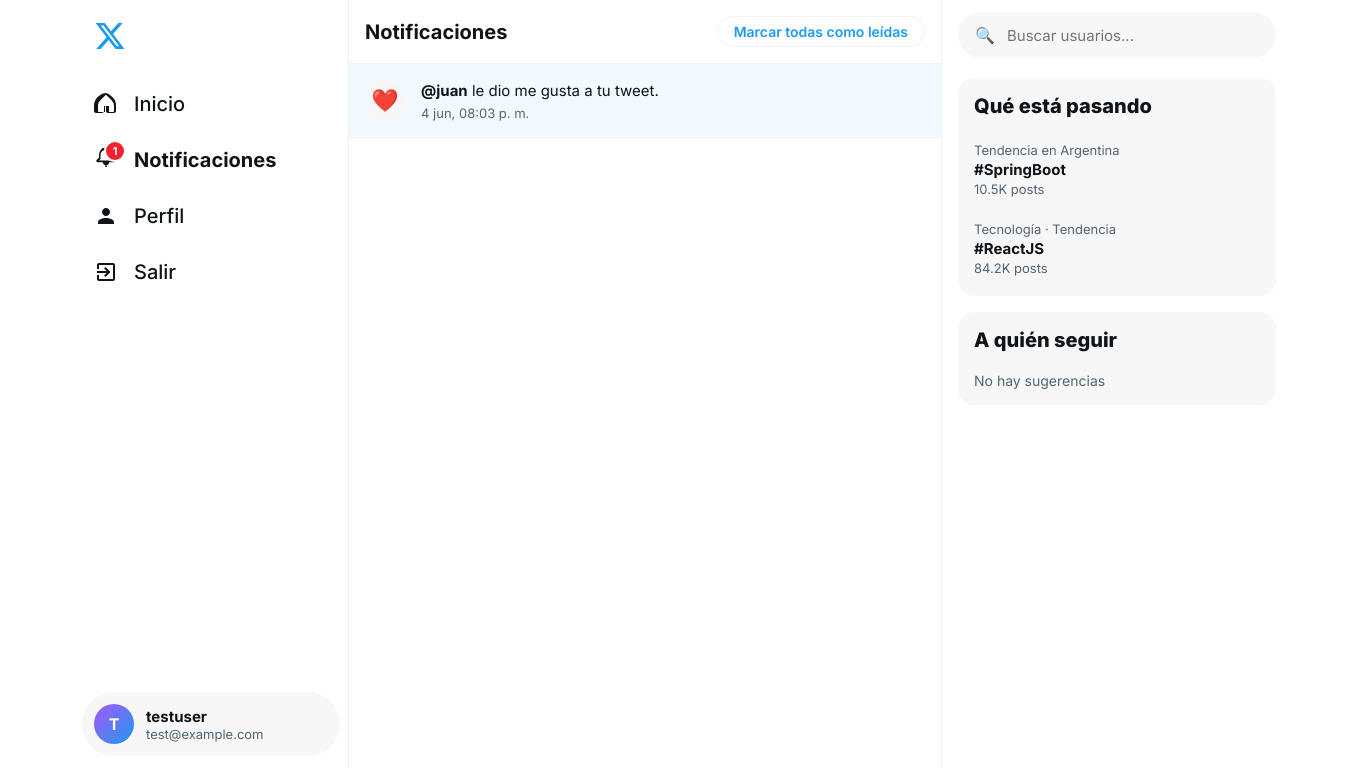
Test: Notifications Integration Tests › displays notifications list and marks all as read
Expected: the heading "Notificaciones" is shown, [365,20,507,44]
Expected: the text with test id "notification-badge" reads "1", [113,144,117,158]
Click "Marcar todas como leídas" button
Click the button with test id "mark-read-btn" at [821, 32], box [717,16,925,47]
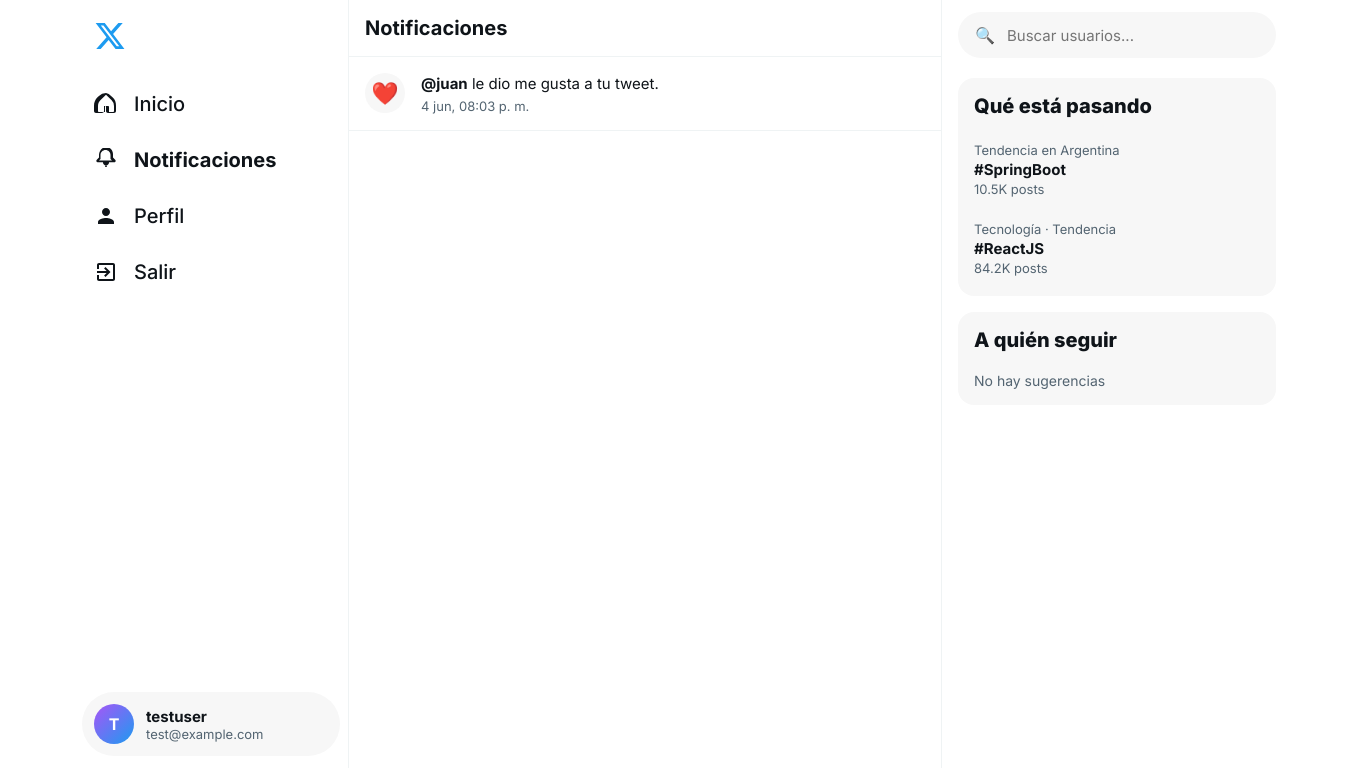
Result: the text with test id "notification-badge" is gone
